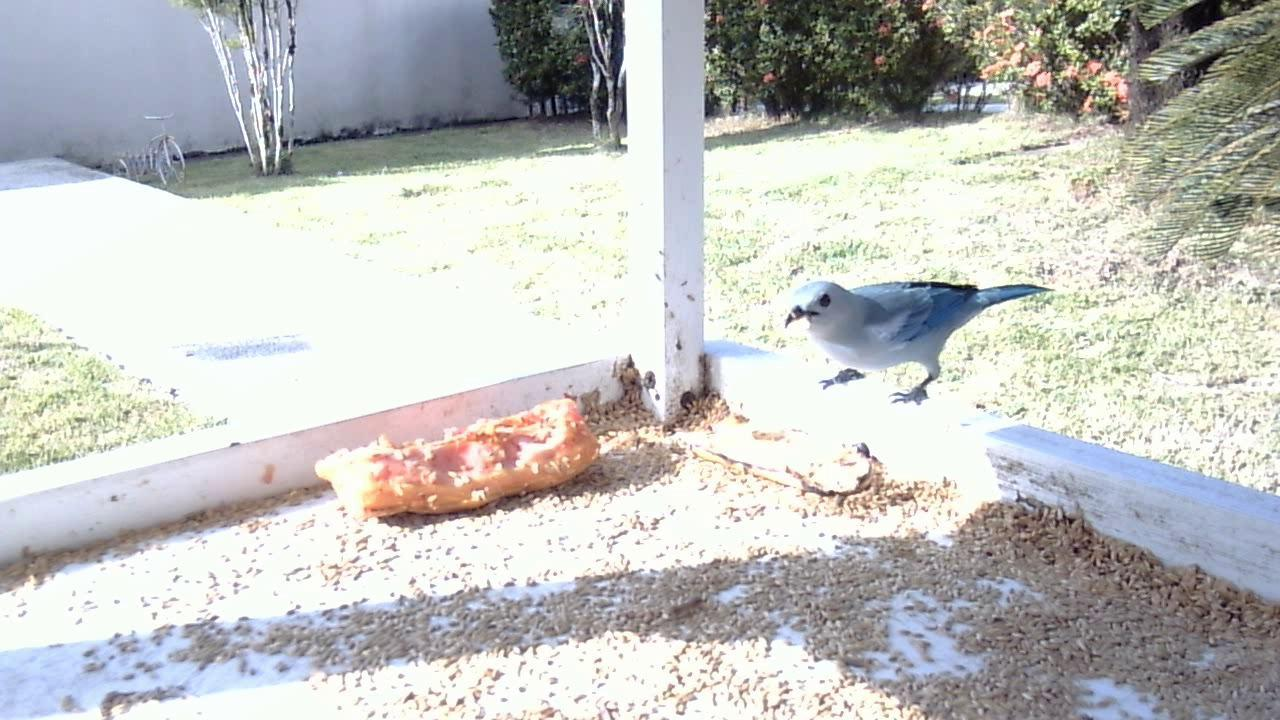sanhaco_da_amazonia: (780, 272, 1045, 411)
